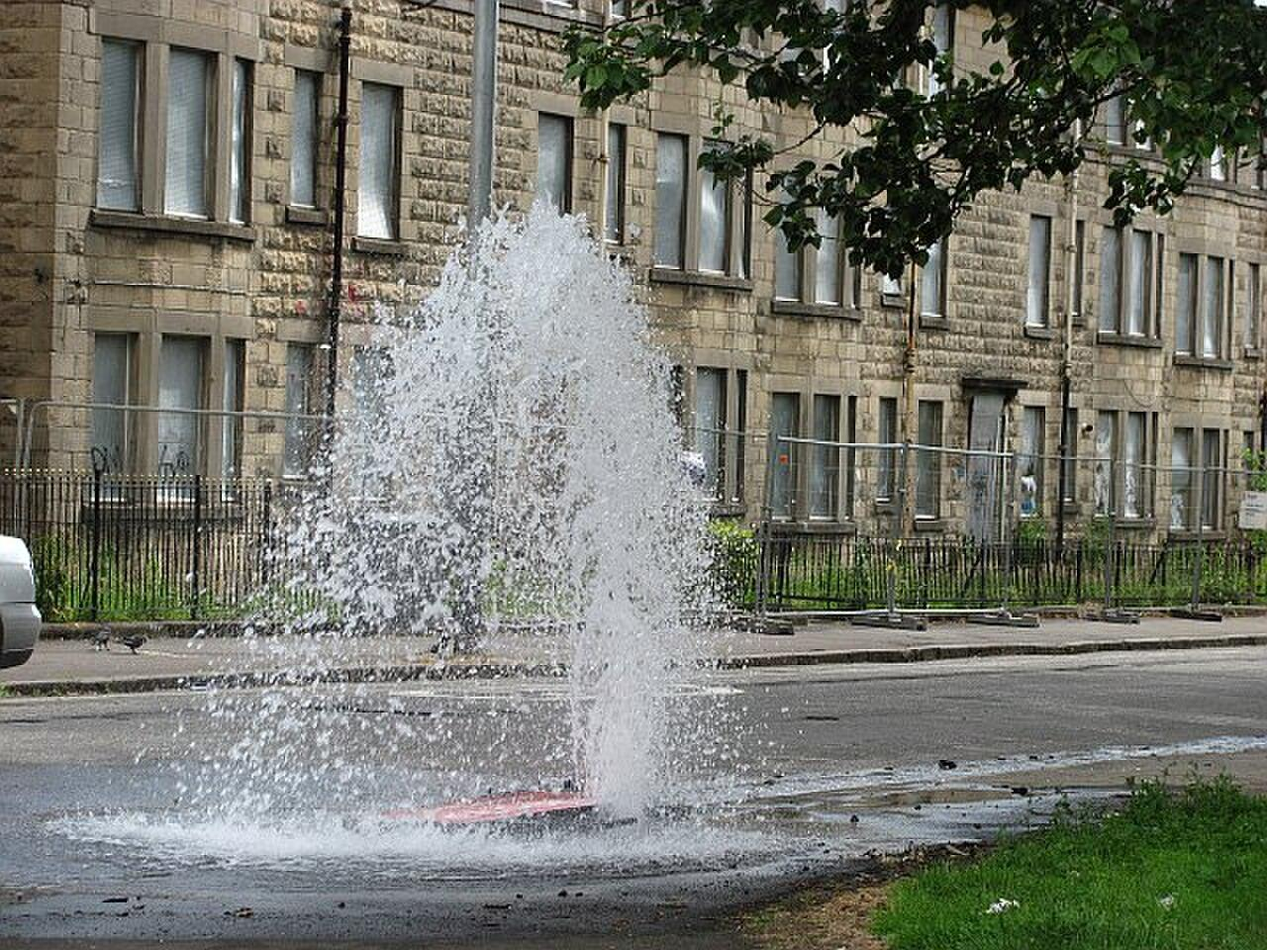pipe burst: (233, 205, 752, 811)
water accumulation: (48, 740, 1267, 874)
